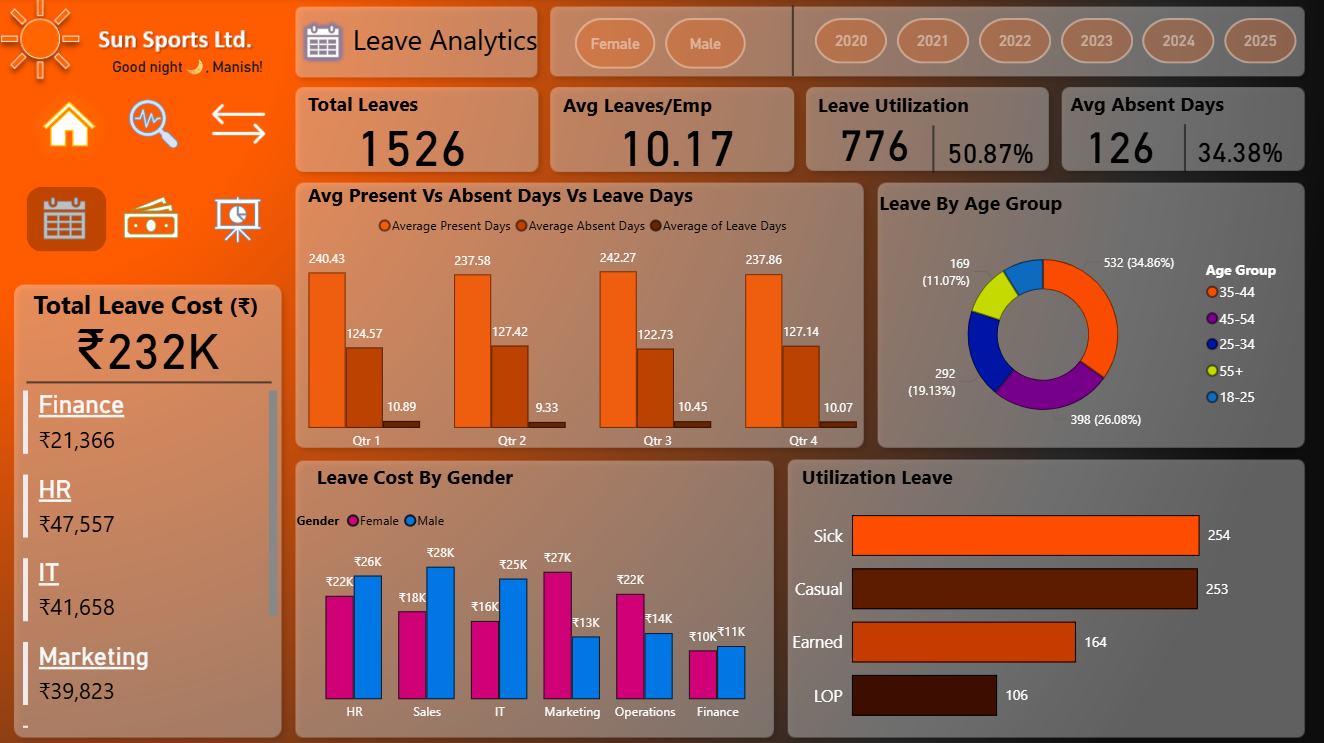

The dashboard page shown, as its layout file describes it:
{"tool":"powerbi","page":{"name":"Leave Analytics","canvas":[1280,720],"ordinal":2},"visuals":[{"type":"card","fields":{"Values":["Table1.Leave Days"]},"box":[323.3,106.2,149.6,67.6],"z":0},{"type":"textbox","box":[293.2,84.5,149.6,41],"z":1000},{"type":"card","fields":{"Values":["Performance Rating.Leave/emp"]},"box":[588.7,108.6,130.3,62.7],"z":2000},{"type":"textbox","box":[538.9,85.1,180.5,41.3],"z":3000},{"type":"card","fields":{"Values":["Performance Rating.% leave utilization"]},"box":[904,122.9,106.8,50.9],"z":4000},{"type":"actionButton","box":[95.3,190.8,76,67.6],"z":5000},{"type":"advancedSlicerVisual","fields":{"Values":["Table1.Join Date.Variation.Date Hierarchy.Year"]},"box":[762.4,14.5,517.6,54.3],"z":6000},{"type":"textbox","box":[785.4,85.7,199.1,41],"z":7000},{"type":"card","fields":{"Values":["Performance Rating.leave Utilize"]},"box":[775.7,105,138.7,66.4],"z":8000},{"type":"shape","box":[894,123.1,15.7,45.8],"z":9000},{"type":"card","fields":{"Values":["Table1.Cost of Leave"]},"box":[49,305.6,188.4,60.8],"z":10000},{"type":"clusteredColumnChart","fields":{"Y":["Table1.Days Present","Table1.Days Absent","Table1.Leave Days"],"Category":["Table1.Join Date.Variation.Date Hierarchy.Quarter"]},"box":[237.7,200.3,656.3,244.9],"z":11000},{"type":"textbox","box":[292.7,172.8,426.8,41.3],"z":12000},{"type":"shape","box":[755.5,7.7,21.9,68.3],"z":13000},{"type":"clusteredColumnChart","fields":{"Y":["Table1.Cost of Leave"],"Category":["Table1.Department"],"Series":["Table1.Gender"]},"box":[282.3,485,472.9,222],"z":14000},{"type":"textbox","box":[301.4,444.5,231.6,43.4],"z":15000},{"type":"card","fields":{"Values":["Retention rate.WelcomeMessage"]},"box":[86.2,48.5,192.5,39],"z":16000},{"type":"clusteredBarChart","fields":{"Category":["Table1.Leave Type","Table1.Department"],"Y":["Performance Rating.leave Utilize"]},"box":[756.2,465.7,524,254.6],"z":17000},{"type":"advancedSlicerVisual","fields":{"Values":["Table1.Gender"]},"box":[531.1,14.8,215.1,59.3],"z":18000},{"type":"textbox","box":[12.1,275.1,259.4,57.9],"z":19000},{"type":"shape","box":[26.5,357.1,236.5,27.7],"z":20000},{"type":"multiRowCard","fields":{"Values":["Table1.Department","Table1.Cost of Leave"]},"box":[17.8,373.9,255.2,335.3],"z":21000},{"type":"textbox","box":[769.6,444.5,198.8,41.5],"z":22000},{"type":"card","fields":{"Values":["Table1.Days Absent"]},"box":[1031.1,108.3,100.9,62.3],"z":23000},{"type":"textbox","box":[1029.6,84.6,198.8,41.5],"z":24000},{"type":"shape","box":[1136.4,121.7,16.3,46],"z":25000},{"type":"card","fields":{"Values":["Performance Rating.% absentism"]},"box":[1145.3,126.1,106.8,43],"z":26000},{"type":"donutChart","fields":{"Category":["Table1.Age Group"],"Y":["Table1.Leave Days"]},"box":[845.6,223.5,411,203.6],"z":27000},{"type":"textbox","box":[844.4,180.1,198.7,41],"z":28000},{"type":"textbox","box":[264.2,16.9,260.6,62.7],"z":29000},{"type":"image","box":[12.1,43.4,252.1,225.6],"z":30000},{"type":"actionButton","box":[26.5,182.2,77.2,62.7],"z":32000},{"type":"actionButton","box":[112.2,90.5,77.2,62.7],"z":33000},{"type":"actionButton","box":[111,181,77.2,62.7],"z":34000},{"type":"actionButton","box":[195.7,90.2,77.2,62.7],"z":35000},{"type":"actionButton","box":[194.2,181,77.2,62.7],"z":36000},{"type":"image","box":[278.7,9.7,67.6,65.1],"z":37000}]}

Visuals, with their boxes in screenshot pixels (x1, y1, x2, y2), scaled from the page's 1280x720 canvas onto the 1324x743 screenshot:
card - Table1.Leave Days: bbox=(334, 110, 489, 179)
textbox: bbox=(303, 87, 458, 130)
card - Performance Rating.Leave/emp: bbox=(609, 112, 744, 177)
textbox: bbox=(557, 88, 744, 130)
card - Performance Rating.% leave utilization: bbox=(935, 127, 1046, 179)
actionButton: bbox=(99, 197, 177, 267)
advancedSlicerVisual - Table1.Join Date.Variation.Date Hierarchy.Year: bbox=(789, 15, 1323, 71)
textbox: bbox=(812, 88, 1018, 131)
card - Performance Rating.leave Utilize: bbox=(802, 108, 946, 177)
shape: bbox=(925, 127, 941, 174)
card - Table1.Cost of Leave: bbox=(51, 315, 246, 378)
clusteredColumnChart - Table1.Days Present x Table1.Days Absent: bbox=(246, 207, 925, 459)
textbox: bbox=(303, 178, 744, 221)
shape: bbox=(781, 8, 804, 78)
clusteredColumnChart - Table1.Cost of Leave x Table1.Department: bbox=(292, 500, 781, 730)
textbox: bbox=(312, 459, 551, 503)
card - Retention rate.WelcomeMessage: bbox=(89, 50, 288, 90)
clusteredBarChart - Table1.Leave Type x Table1.Department: bbox=(782, 481, 1323, 742)
advancedSlicerVisual - Table1.Gender: bbox=(549, 15, 772, 76)
textbox: bbox=(13, 284, 281, 344)
shape: bbox=(27, 369, 272, 397)
multiRowCard - Table1.Department x Table1.Cost of Leave: bbox=(18, 386, 282, 732)
textbox: bbox=(796, 459, 1002, 502)
card - Table1.Days Absent: bbox=(1067, 112, 1171, 176)
textbox: bbox=(1065, 87, 1271, 130)
shape: bbox=(1175, 126, 1192, 173)
card - Performance Rating.% absentism: bbox=(1185, 130, 1295, 175)
donutChart - Table1.Age Group x Table1.Leave Days: bbox=(875, 231, 1300, 441)
textbox: bbox=(873, 186, 1079, 228)
textbox: bbox=(273, 17, 543, 82)
image: bbox=(13, 45, 273, 278)
actionButton: bbox=(27, 188, 107, 253)
actionButton: bbox=(116, 93, 196, 158)
actionButton: bbox=(115, 187, 195, 251)
actionButton: bbox=(202, 93, 282, 158)
actionButton: bbox=(201, 187, 281, 251)
image: bbox=(288, 10, 358, 77)
